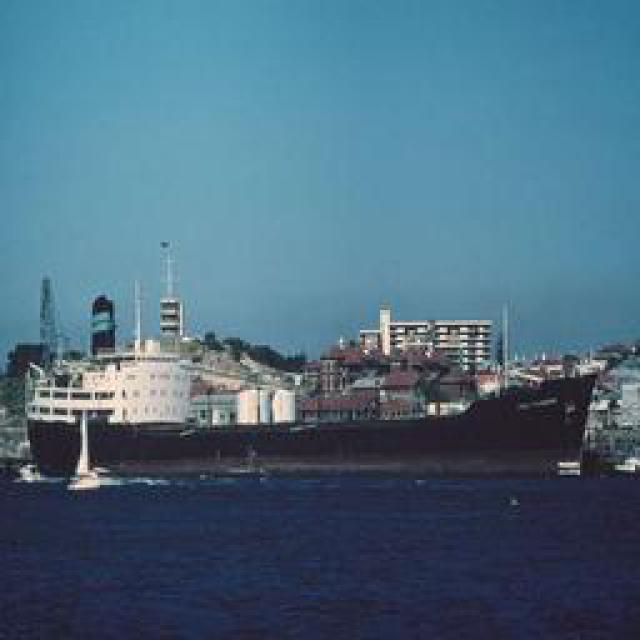Ship: (22, 326, 620, 484)
